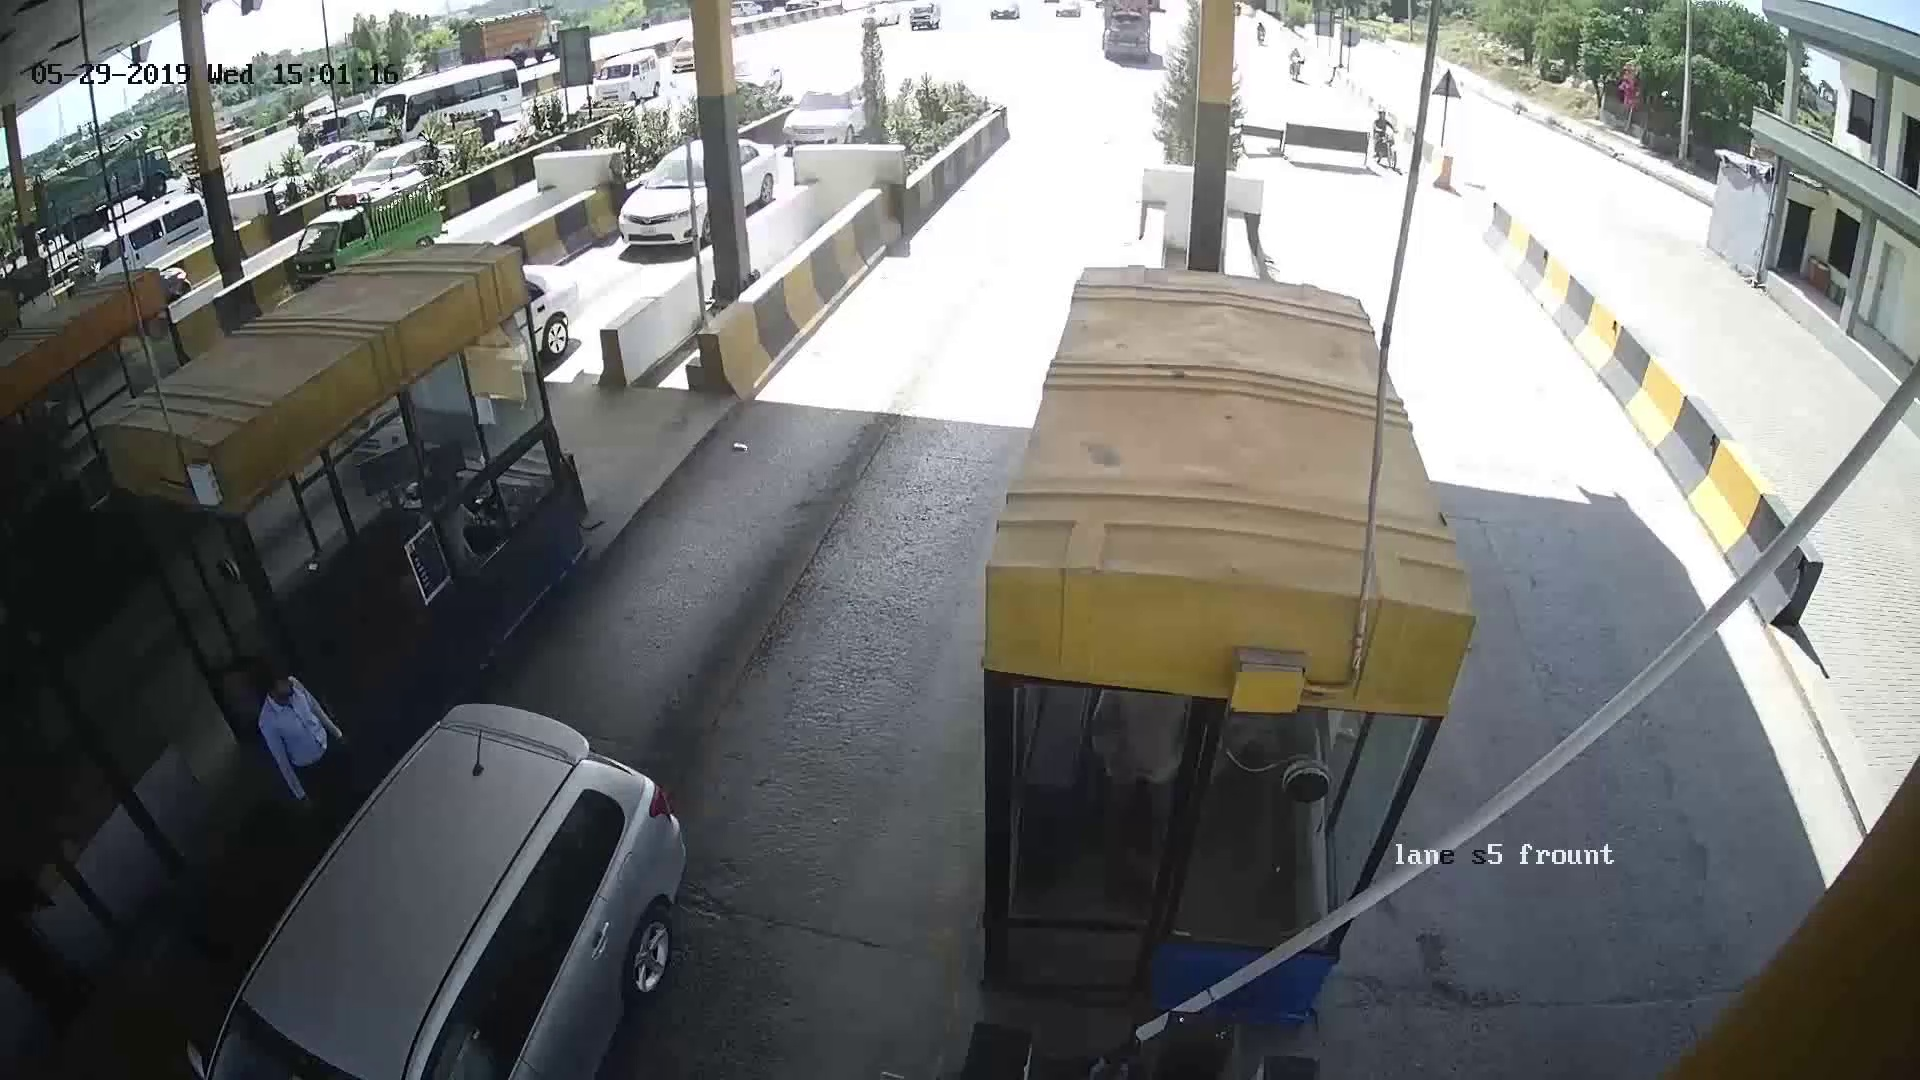car: (293, 835, 655, 1042)
